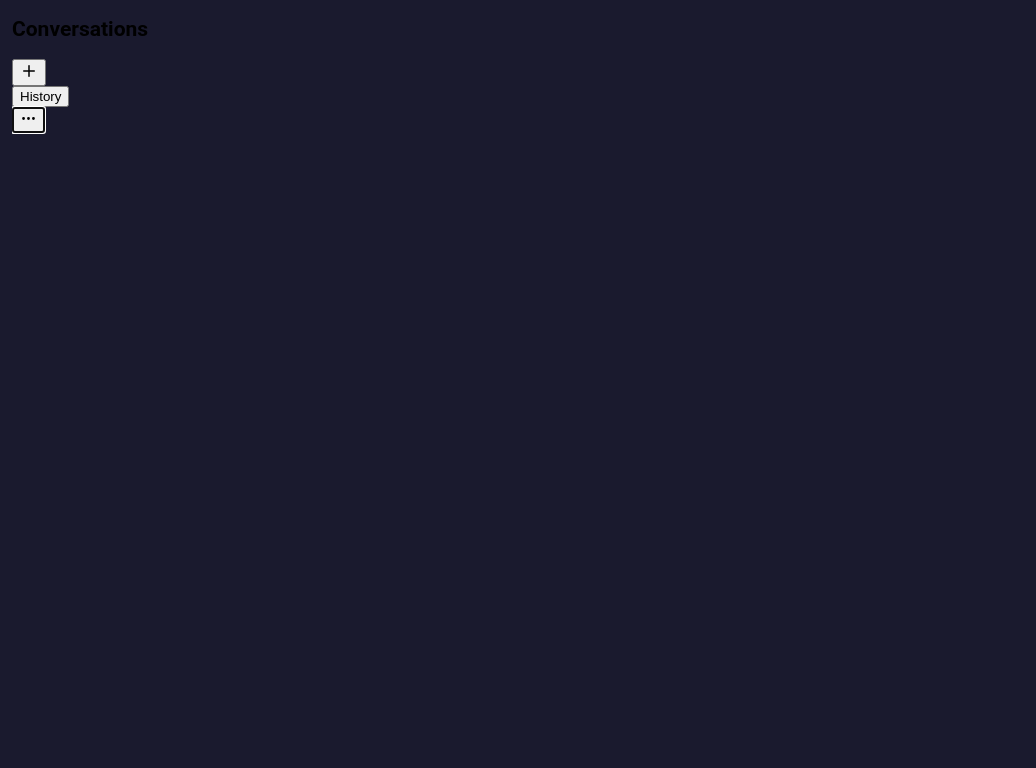
the row menu supports keyboard opening, Escape, outside click and focus restoration
Step 1. Press ArrowDown in the button named "Conversation options: History", box [12,107,45,133]
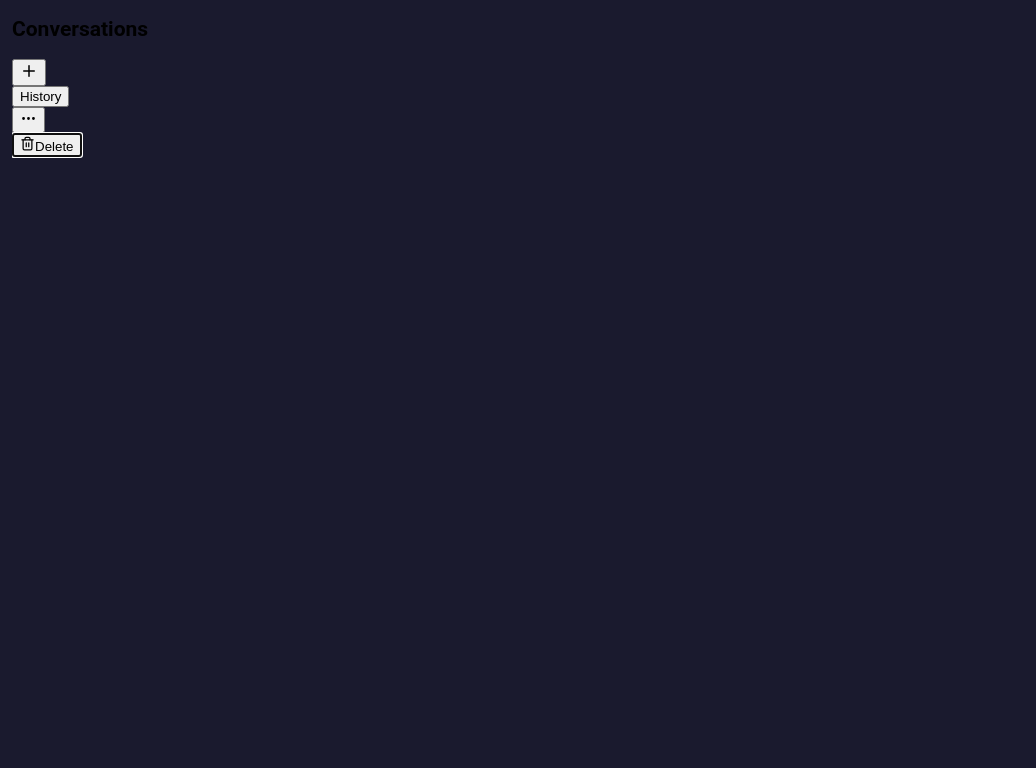
Now the button named "Conversation options: History" is expanded, box [12,107,45,133]
Step 2. Press Escape in the menu item "Delete", box [12,133,82,157]
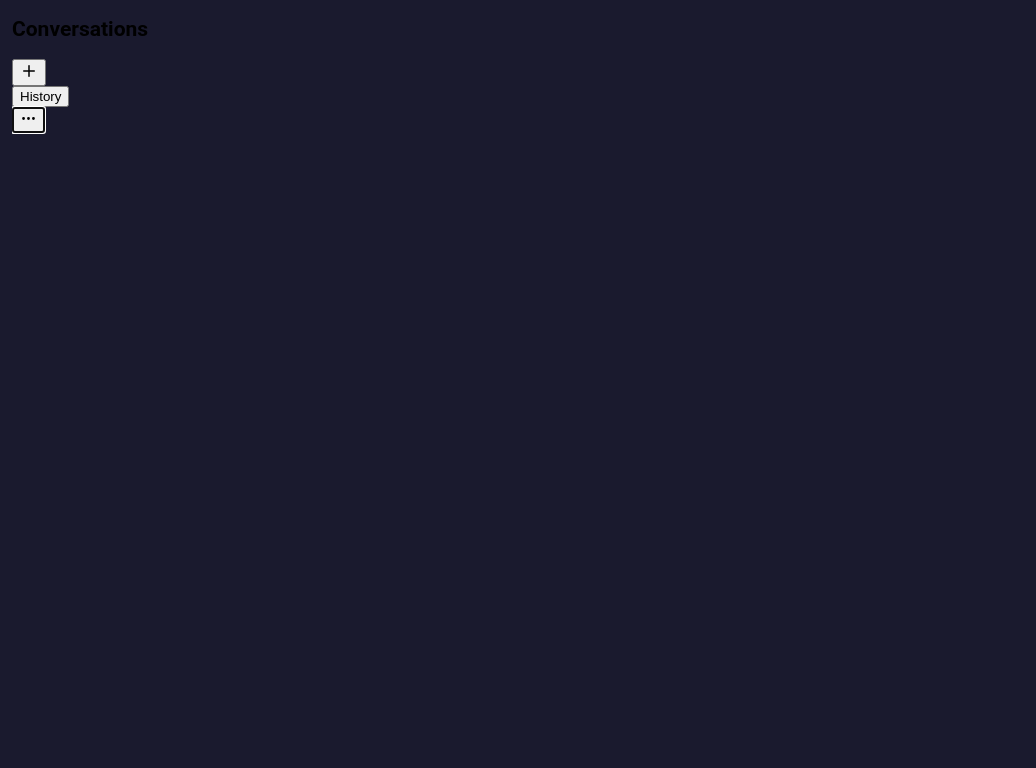
Now the menu is gone
Step 3. Click the button named "Conversation options: History" → [28, 120], box [12,107,45,133]
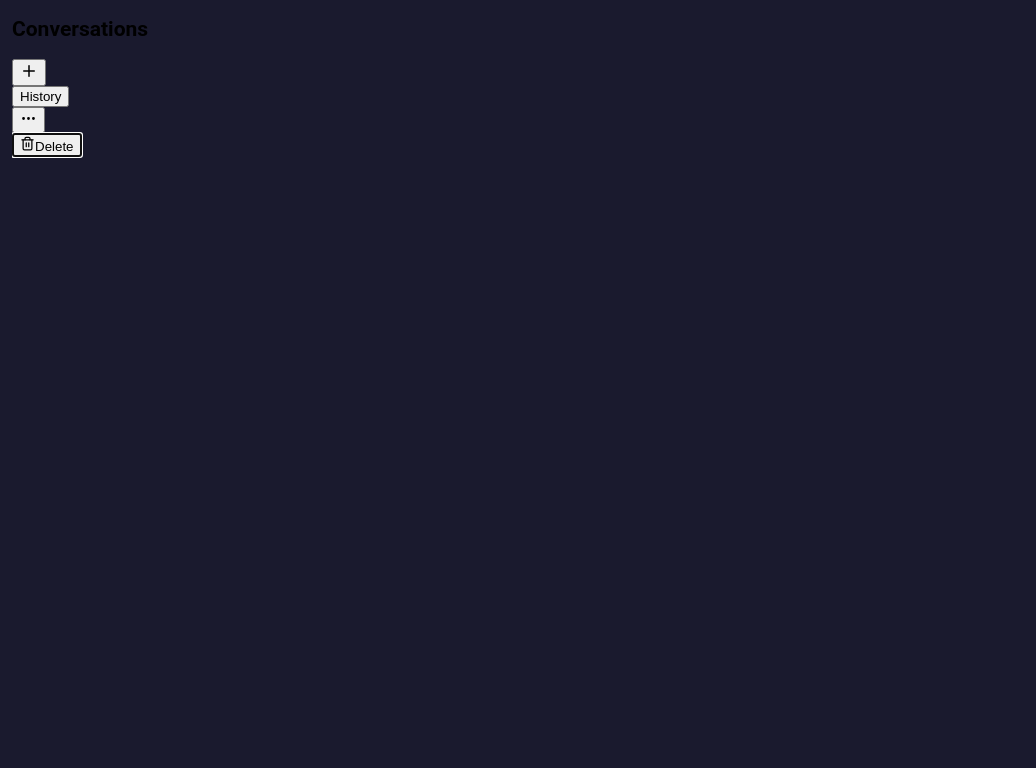
Step 4. Press the mouse on the element showing "Conversations History Delete" → [524, 384], box [12,0,1035,767]
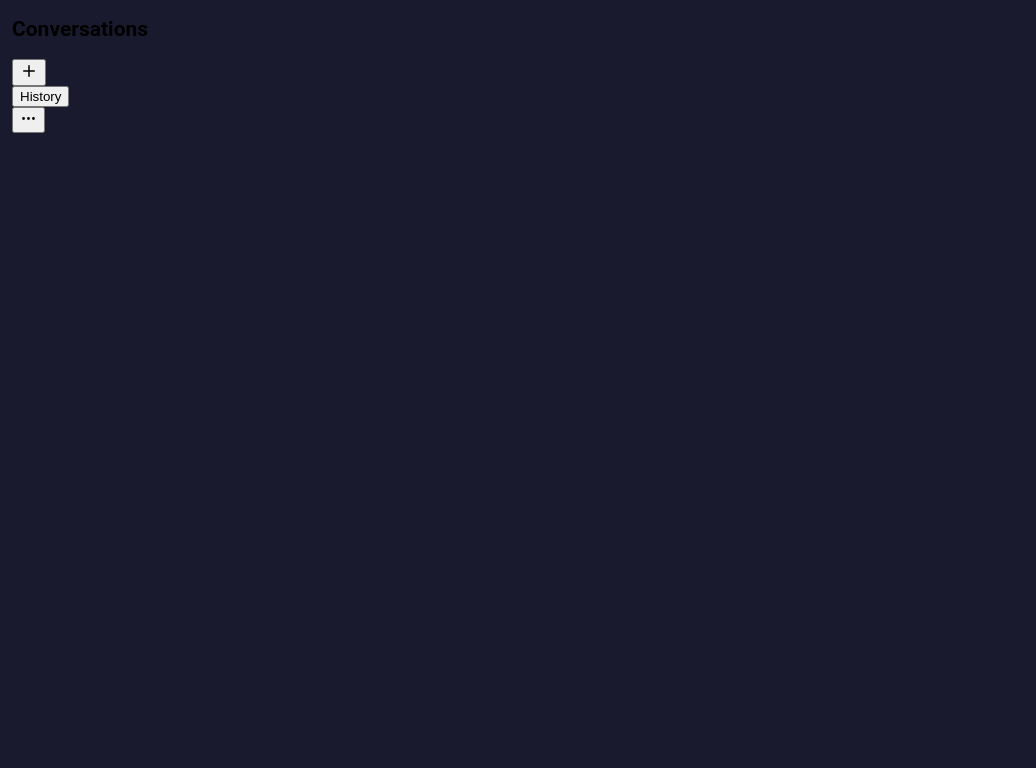
Now the menu is gone
Step 5. Click the button named "Conversation options: History" → [28, 120], box [12,107,45,133]
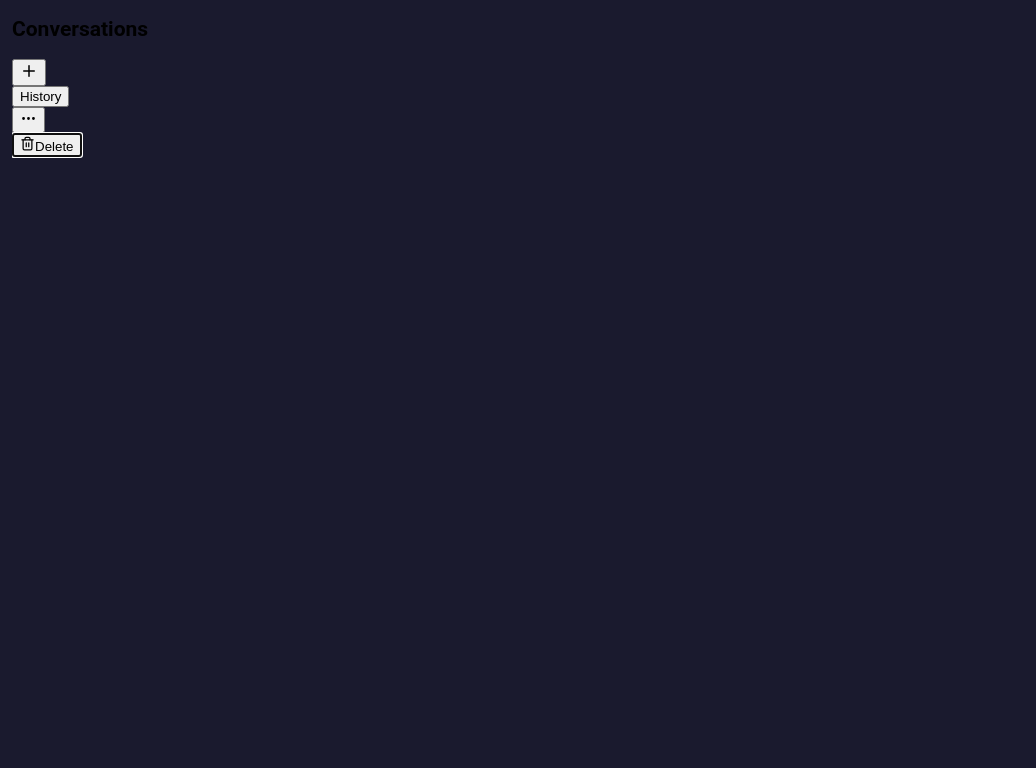
Step 6. Press Tab in the menu item "Delete", box [12,133,82,157]
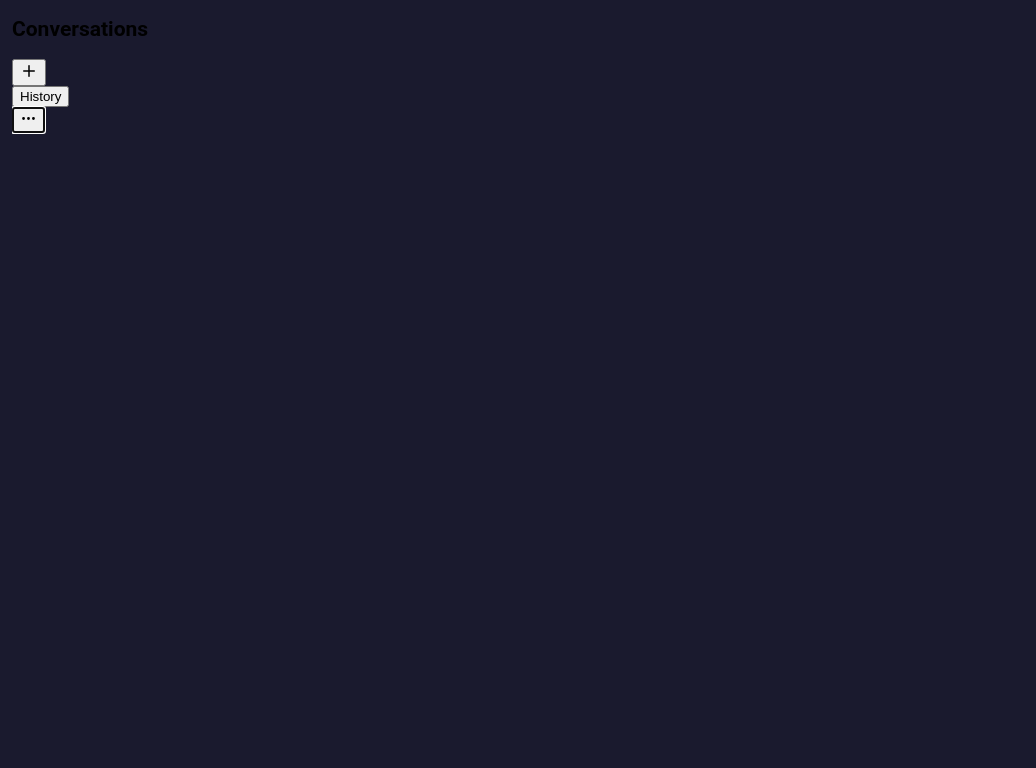
Now the menu is gone
